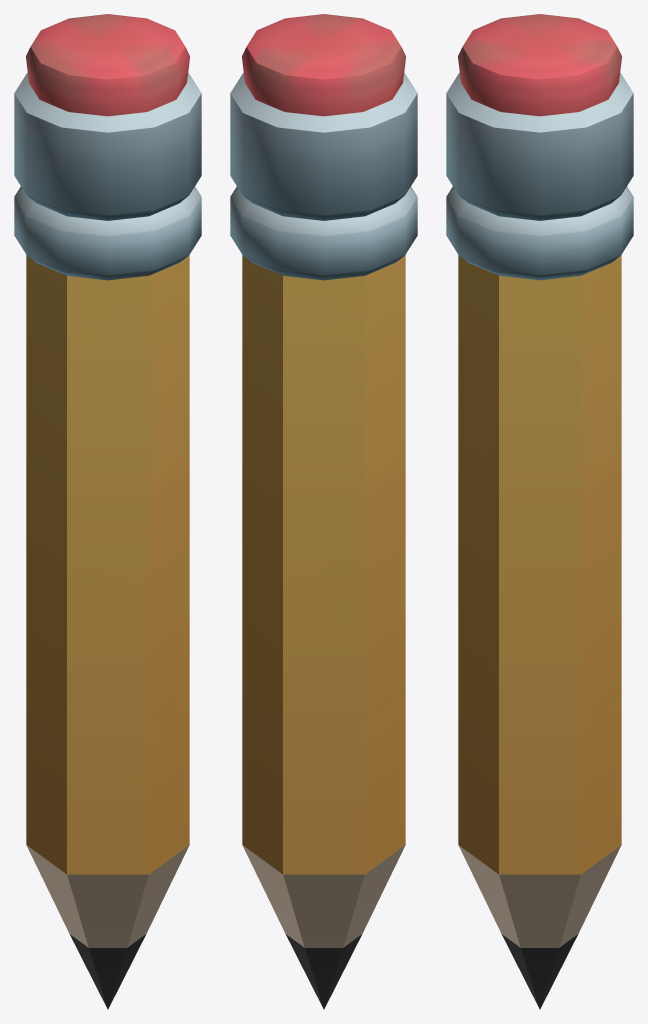
File: pencil_b_long.glb
3 renders of one model, left to right at view 1: azimuth 30°, elevation 25°; view 2: azimuth 150°, elevation 25°; view 3: azimuth 270°, elevation 25°, orthographic.
Visible parts, largest first — view 1: pencil_B_long; view 2: pencil_B_long; view 3: pencil_B_long.
Part boxes in pixels (box(x1,y1,x2,y2)): pencil_B_long: box(14, 14, 201, 1009); pencil_B_long: box(230, 14, 417, 1009); pencil_B_long: box(446, 14, 633, 1009).
Size of the model in its own units: 0.1138 by 0.6485 by 0.1138.
Materials: 1 (1 with a texture image).
